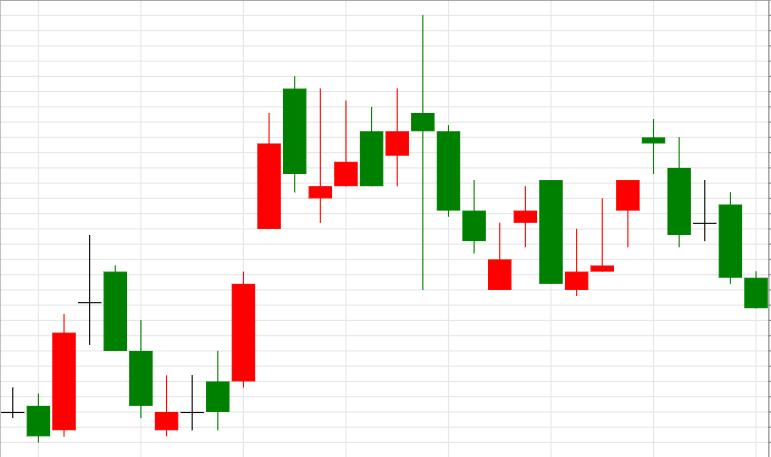evening_star_fall: (309, 15, 460, 290), (565, 119, 691, 296)
